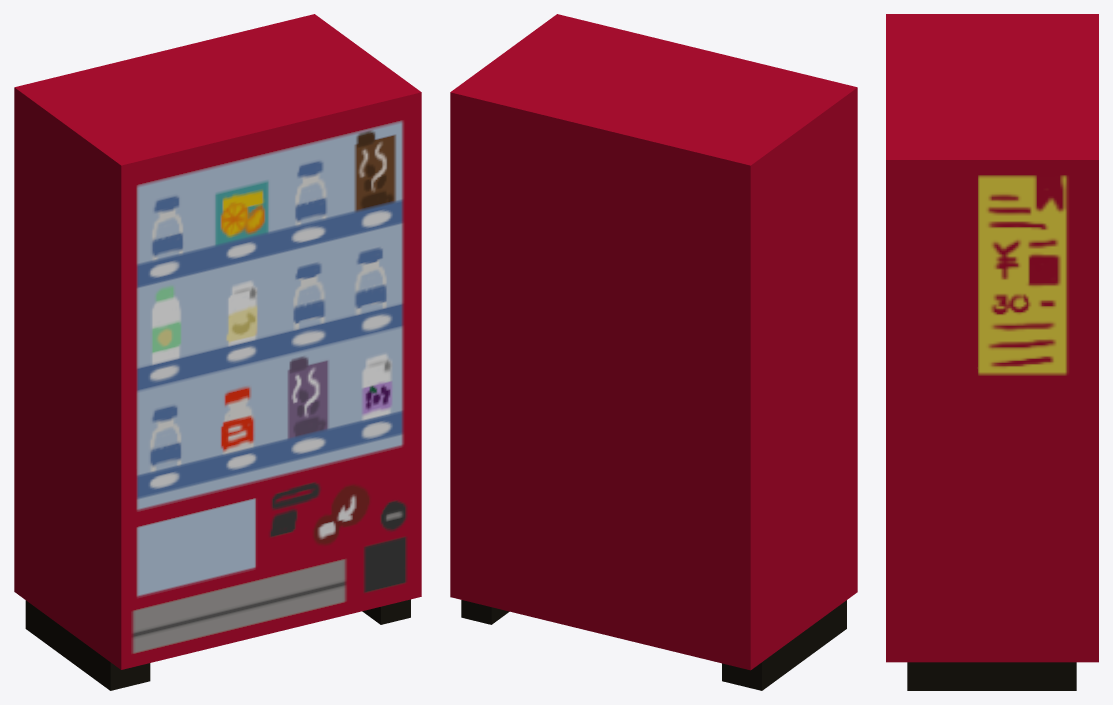
Rendered from water dispencer.fbx.
3 views of the same model, side by side, from view 1: azimuth 30°, elevation 25°; view 2: azimuth 150°, elevation 25°; view 3: azimuth 270°, elevation 25° (orthographic).
Visible parts, largest first — view 1: pCube1.001; view 2: pCube1.001; view 3: pCube1.001.
Boxes of the visible parts, left/top/right/bottom form: pCube1.001: left=14, top=14, right=421, bottom=690; pCube1.001: left=450, top=14, right=857, bottom=690; pCube1.001: left=886, top=14, right=1098, bottom=690.
Bounding box in the file's own units: 206 × 352 × 127.
